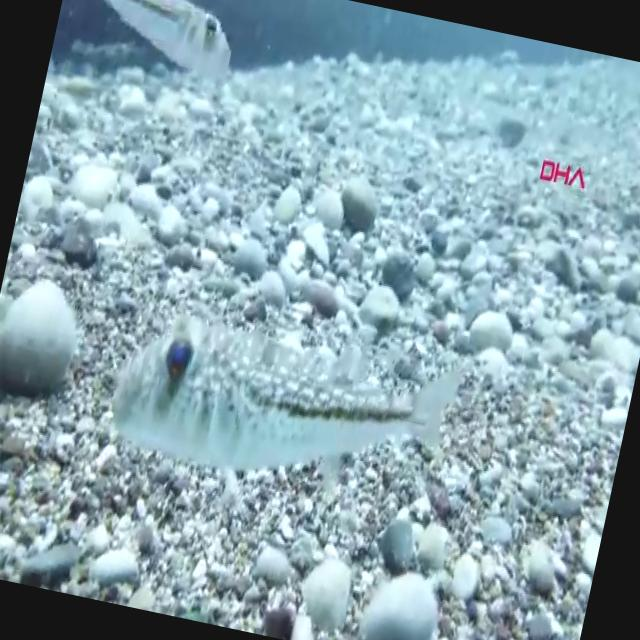Balon Baligi: (101, 299, 468, 513), (52, 0, 243, 79)
